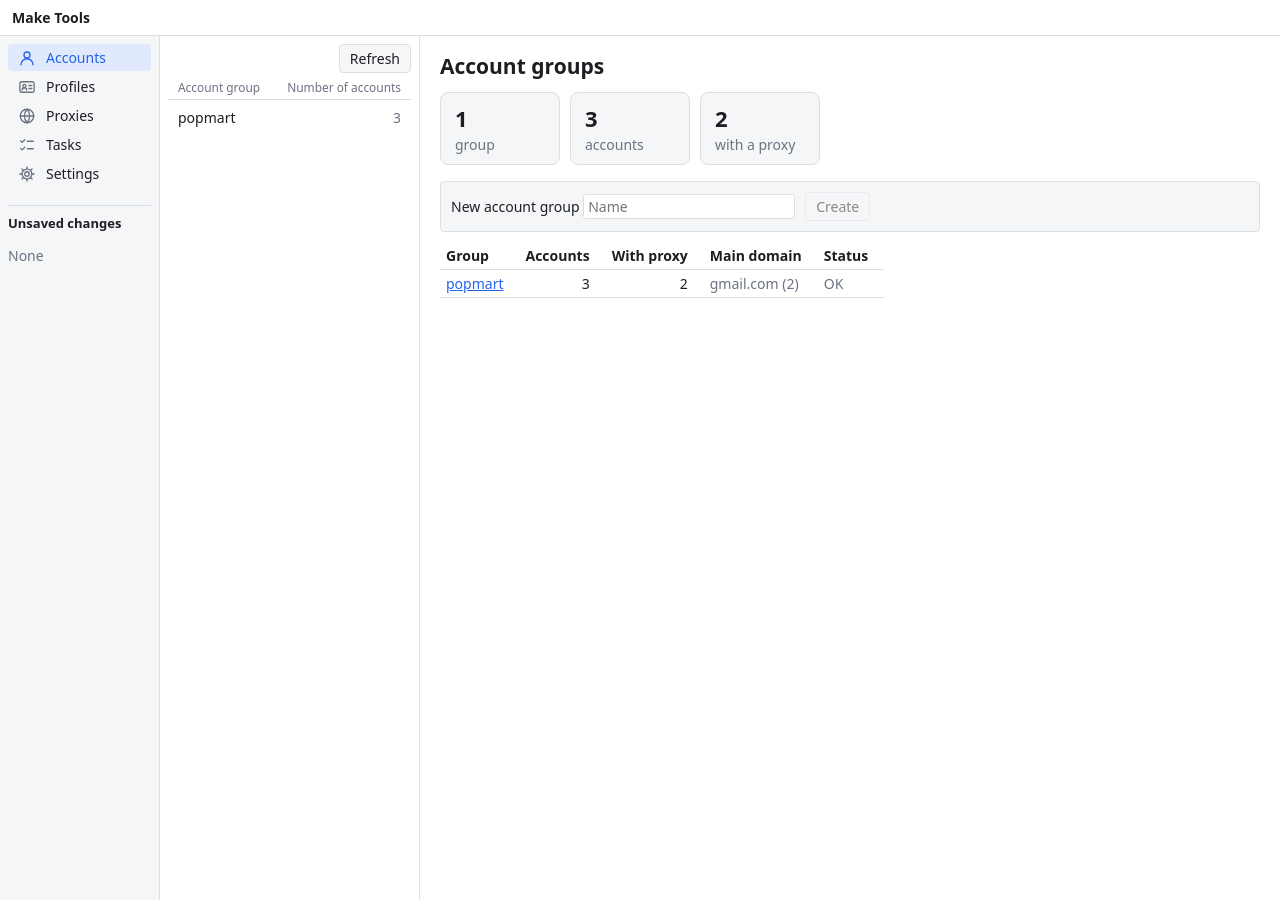
Test case: account group page › searches by email, proxy host and proxy user
The width and height of the screenshot is (1280, 900).
Expected: the heading "Account groups" is shown, [440,52,604,80]
Click the button "popmart" at (475, 284), box [446,274,504,293]
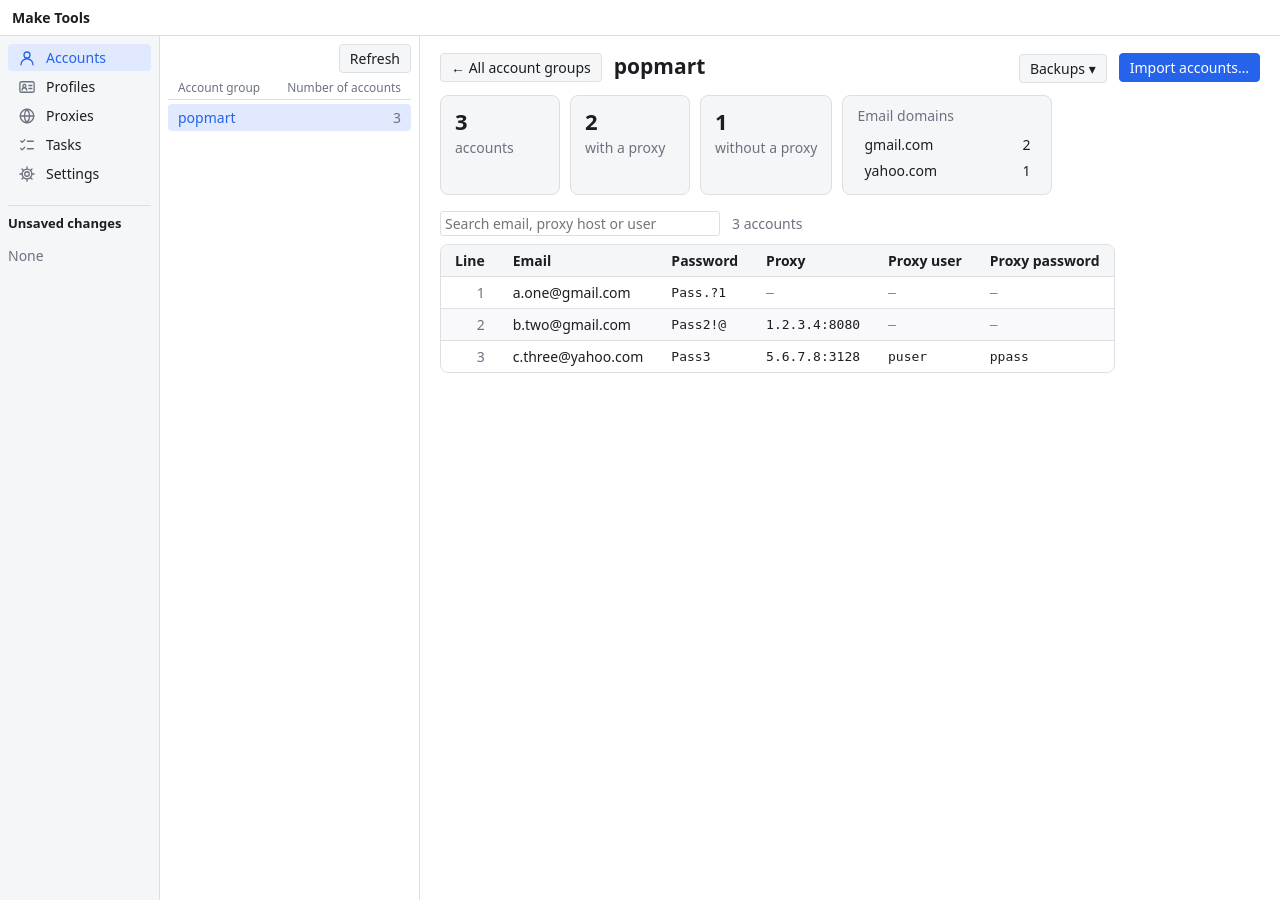
Expected: the heading "popmart" is shown, [614,52,705,80]
Type "GMAIL" into the search field named "Search accounts" at (580, 224), box [440,211,720,236]
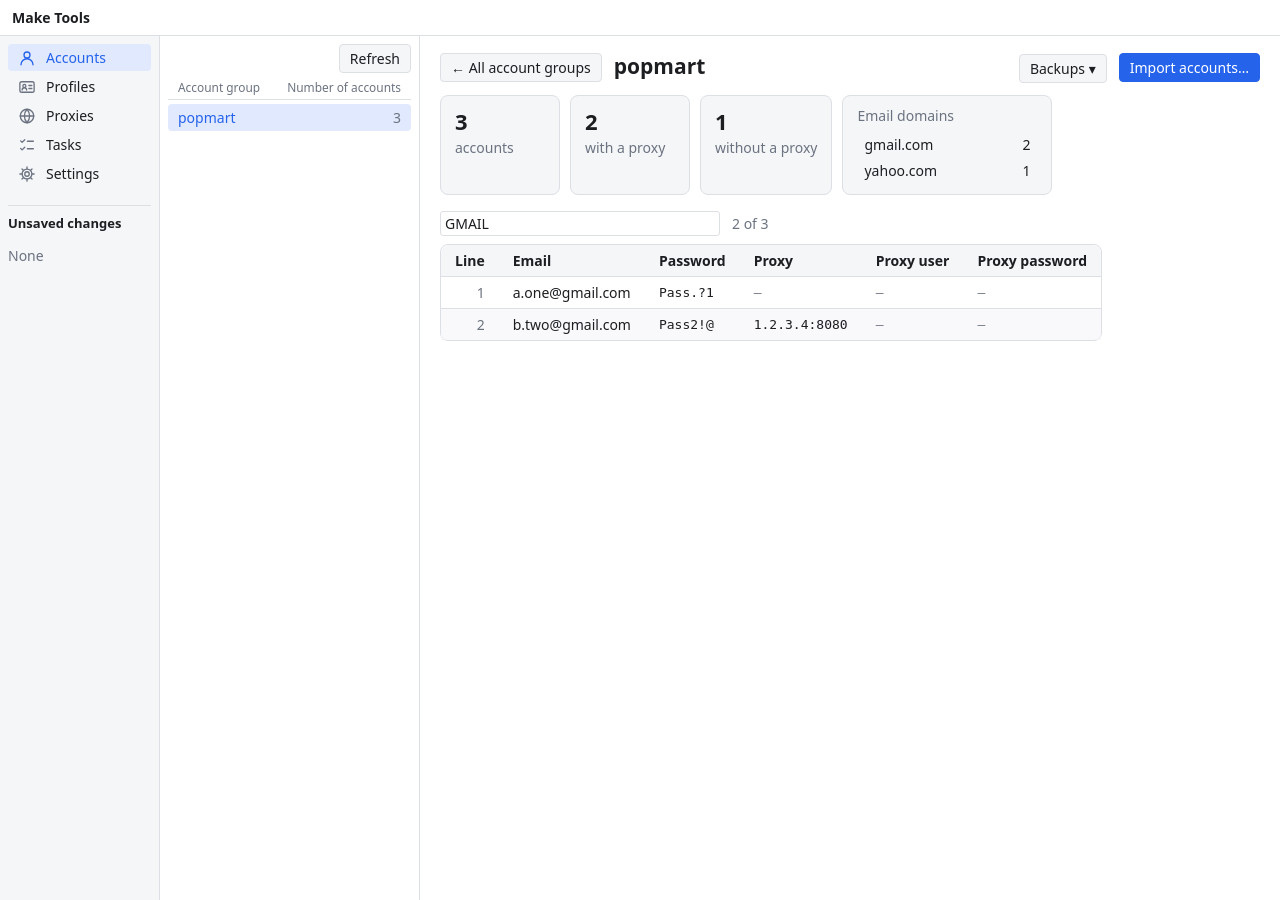
Expected: the text "2 of 3" is shown, [732,214,769,233]
Replace the text in the search field named "Search accounts" with "5.6.7" at (580, 224), box [440,211,720,236]
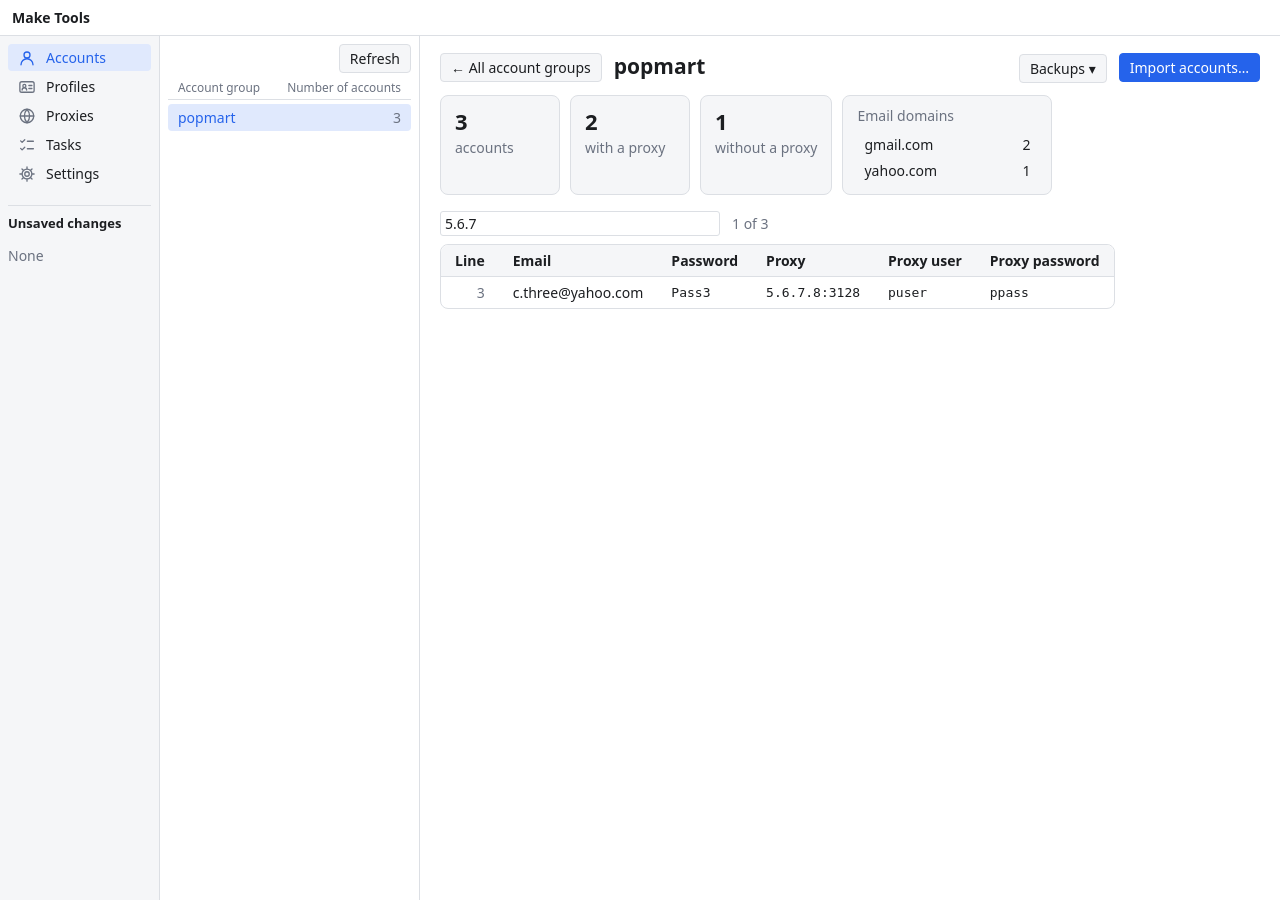
Replace the text in the search field named "Search accounts" with "puser" at (580, 224), box [440,211,720,236]
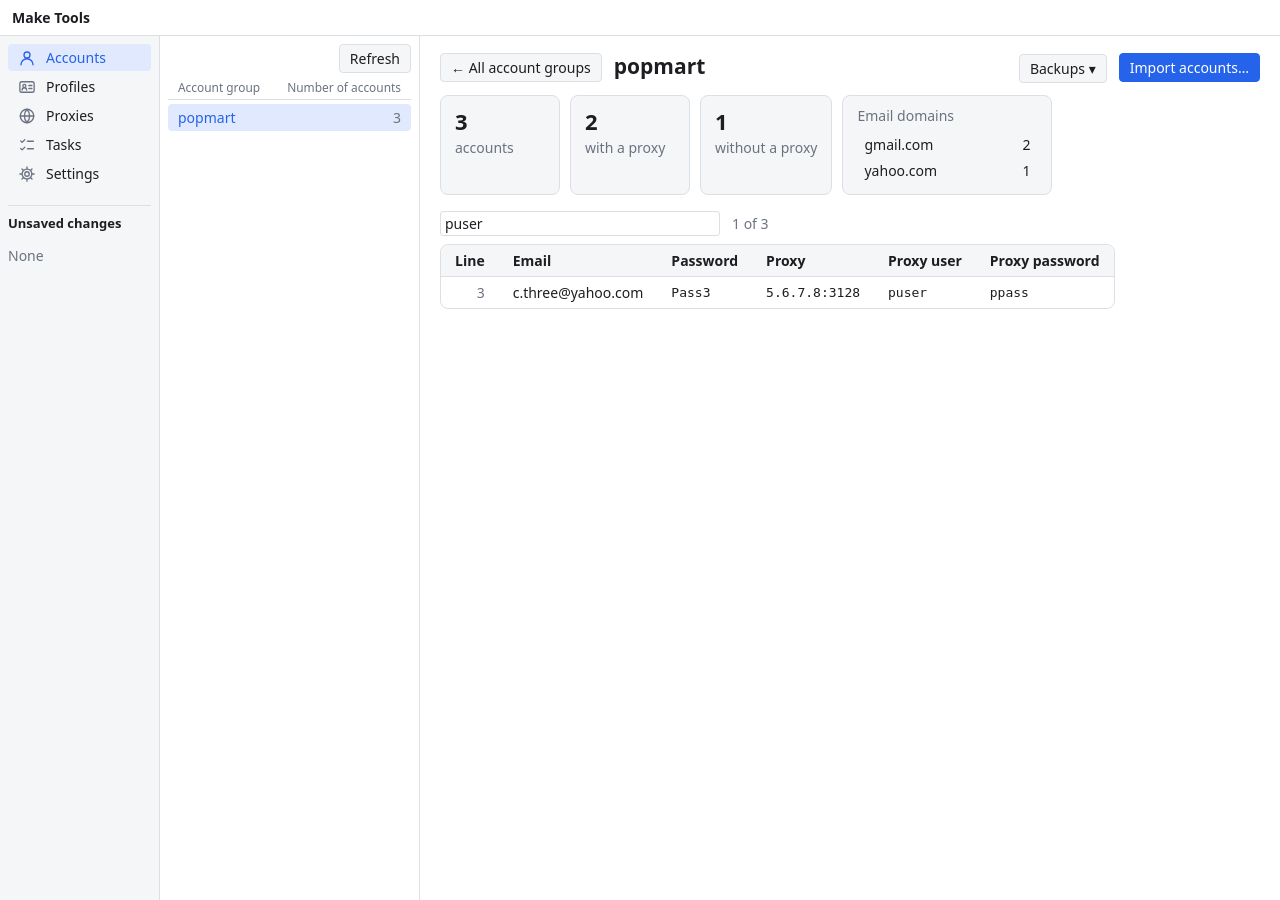
Replace the text in the search field named "Search accounts" with "nobody" at (580, 224), box [440,211,720,236]
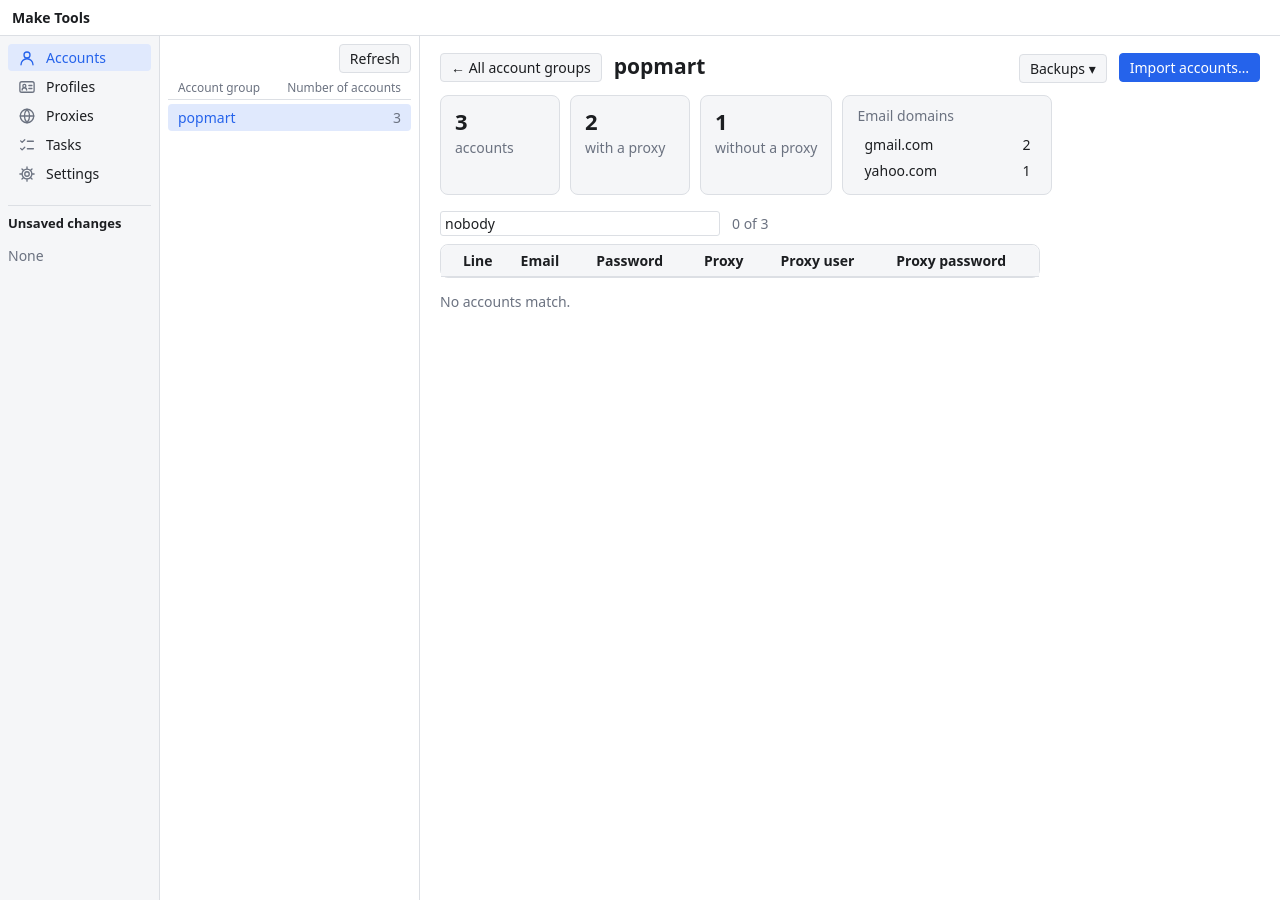
Expected: the text "No accounts match." is shown, [440,292,570,311]
